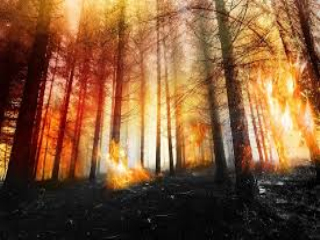fire: (252, 50, 315, 181), (175, 75, 222, 176), (92, 142, 158, 198)
